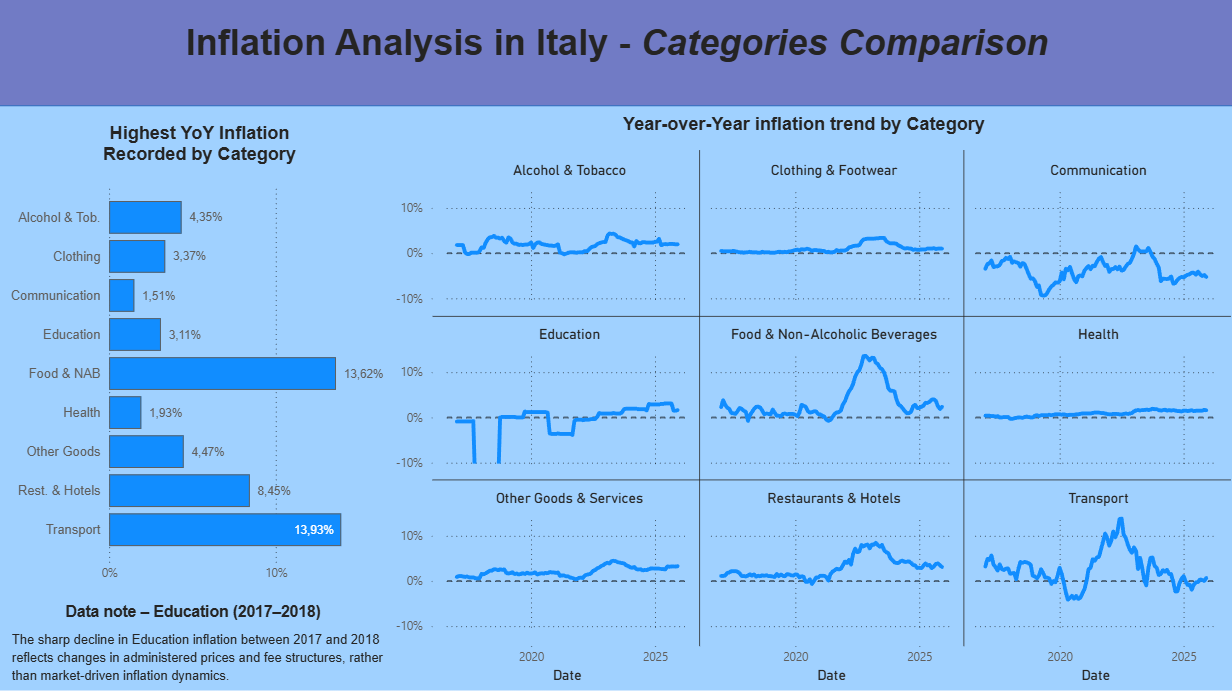

The dashboard page shown, as its layout file describes it:
{"tool":"powerbi","page":{"name":"Categories Comparison","canvas":[1280,720],"ordinal":2},"visuals":[{"type":"shape","box":[0,0,1280,720],"z":0},{"type":"shape","box":[0,0,1280,117.1],"z":1000},{"type":"textbox","box":[0,24.3,1280,67.1],"z":2000},{"type":"textbox","box":[641.3,120,405.2,37.4],"z":3000},{"type":"lineChart","fields":{"Y":["TableMeasures.Inflation_YoY"],"Category":["Dim_Date.Date.Variation.Date Hierarchy.Year","Dim_Date.Date.Variation.Date Hierarchy.Month"],"Rows":["Dim_Category.Category Group"]},"box":[406.5,157.4,873.5,562.6],"z":4000},{"type":"barChart","fields":{"Y":["TableMeasures.Max_Inflation_YoY"],"Category":["Dim_Category.Category_Sort"]},"box":[0,185.8,416.8,431],"z":5000},{"type":"textbox","box":[74.8,129,268.4,56.8],"z":6000},{"type":"textbox","box":[10.3,652.9,406.5,67.1],"z":6001},{"type":"textbox","box":[65.8,624.5,287.7,28.4],"z":6002}]}

Visuals, with their boxes in screenshot pixels (x1, y1, x2, y2), scaled from the page's 1280x720 canvas onto the 1232x691 screenshot:
shape: bbox=(0, 0, 1231, 690)
shape: bbox=(0, 0, 1231, 112)
textbox: bbox=(0, 23, 1231, 88)
textbox: bbox=(617, 115, 1007, 151)
lineChart - TableMeasures.Inflation_YoY x Dim_Date.Date.Variation.Date Hierarchy.Year: bbox=(391, 151, 1231, 690)
barChart - TableMeasures.Max_Inflation_YoY x Dim_Category.Category_Sort: bbox=(0, 178, 401, 592)
textbox: bbox=(72, 124, 330, 178)
textbox: bbox=(10, 627, 401, 690)
textbox: bbox=(63, 599, 340, 627)
